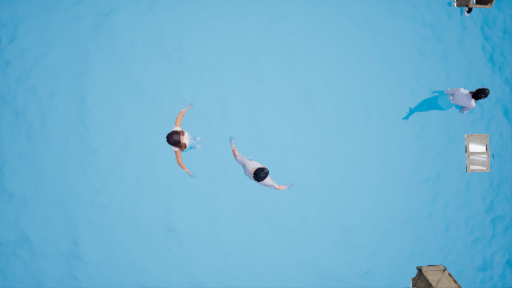person: (397, 78, 485, 123), (227, 134, 291, 189), (163, 103, 208, 178)
